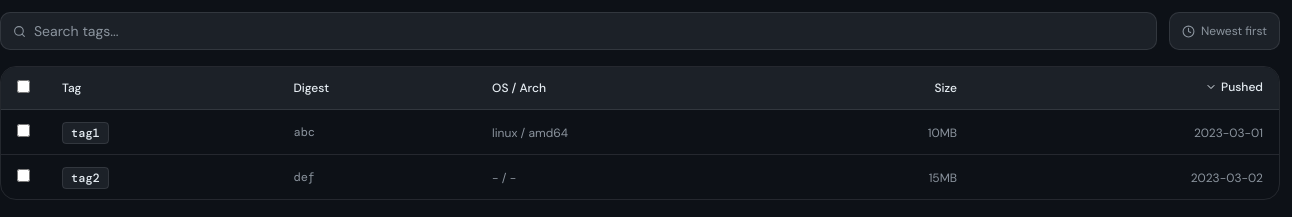
Test: TagsTab › selection › deselects all tags when header checkbox is toggled again
Click the checkbox named "Select all tags".
click(24, 86)  # box x1=17 y1=80 x2=30 y2=92
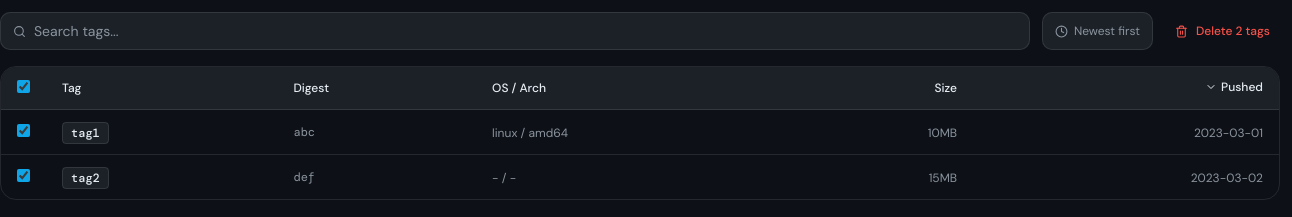
Click the checkbox named "Select all tags".
click(24, 86)  # box x1=17 y1=80 x2=30 y2=92
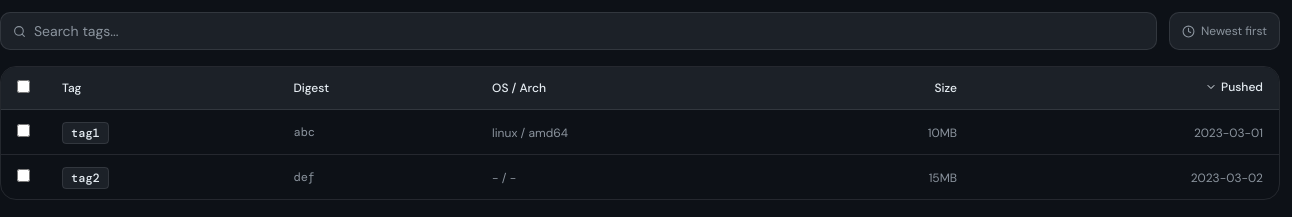
Result: the button "Delete 2 tags" is gone
